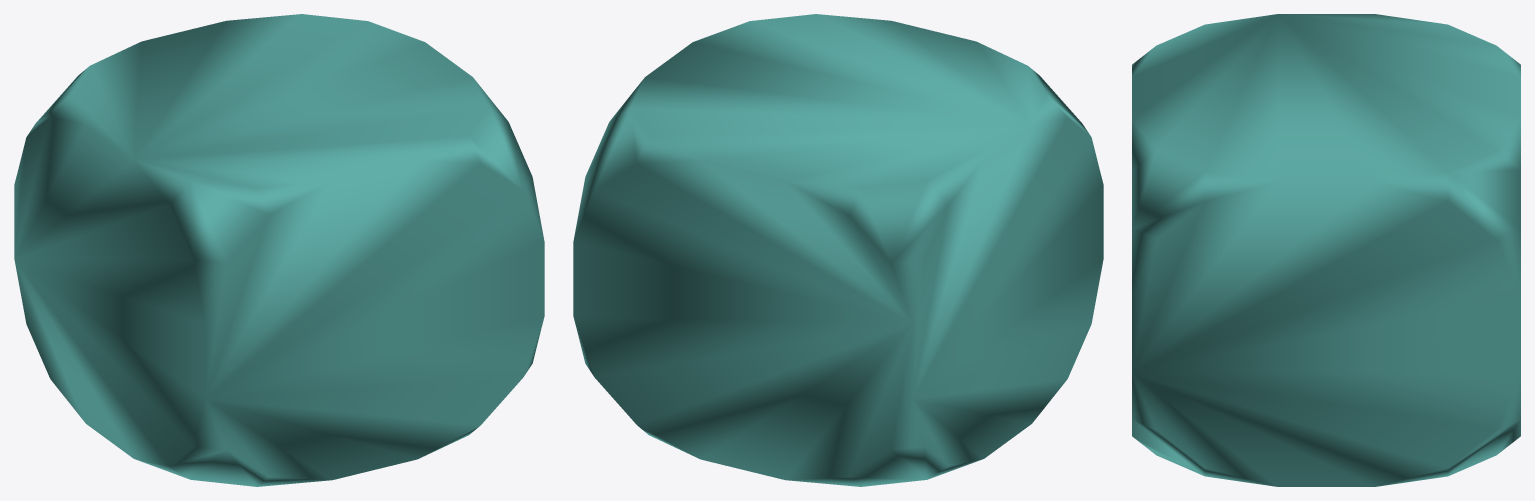
The model's file is TheCube1.fbx.
3 views of the same model, side by side, from view 1: azimuth 30°, elevation 25°; view 2: azimuth 150°, elevation 25°; view 3: azimuth 270°, elevation 25° (orthographic).
Visible parts, largest first — view 1: pCube1; view 2: pCube1; view 3: pCube1.
Boxes of the visible parts, bbox=[...] form: pCube1: bbox=[14, 14, 544, 486]; pCube1: bbox=[573, 14, 1103, 486]; pCube1: bbox=[1132, 14, 1520, 486].
Size of the model in its own units: 4 by 3.37 by 3.9.
